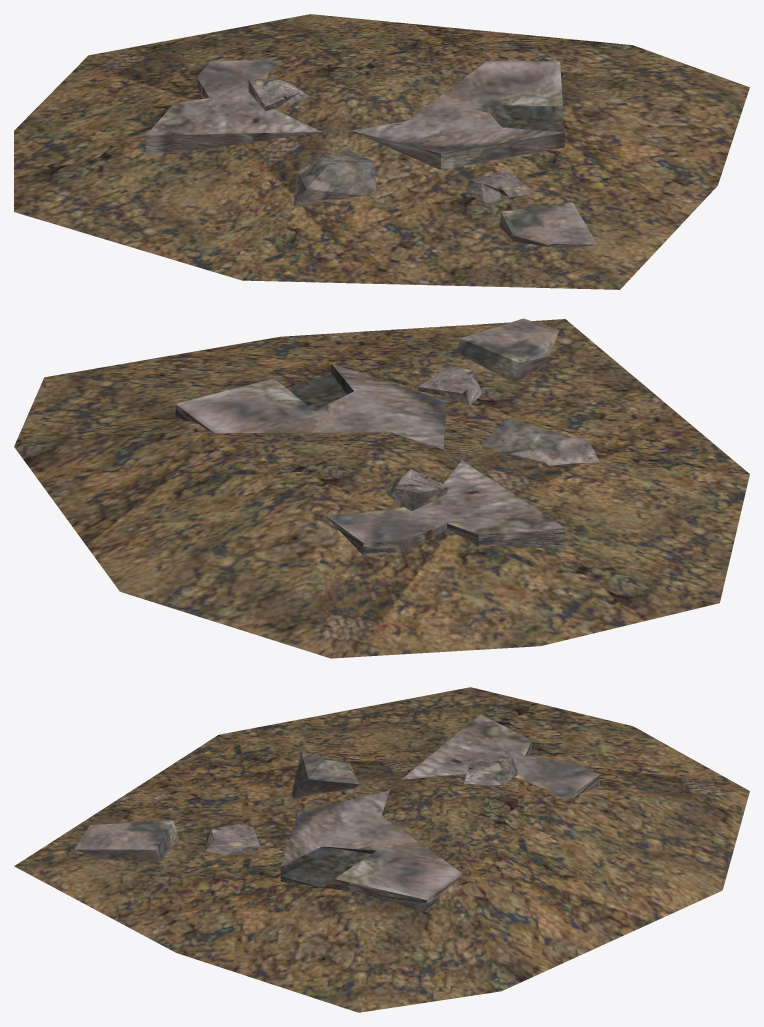
File: C4SNTOMBRUBLE2H.obj
3 views of the same model, one above another, from view 1: azimuth 30°, elevation 25°; view 2: azimuth 150°, elevation 25°; view 3: azimuth 270°, elevation 25° (orthographic). The views are drawn at different scales.
Visible parts, largest first — view 1: Node 0; view 2: Node 0; view 3: Node 0.
Part boxes in pixels (<box>): Node 0: <box>14,14,749,289</box>; Node 0: <box>14,318,749,658</box>; Node 0: <box>14,687,749,1012</box>.
Size of the model in its own units: 11.58 by 0.89 by 11.04.
2 materials, 2 textured.
